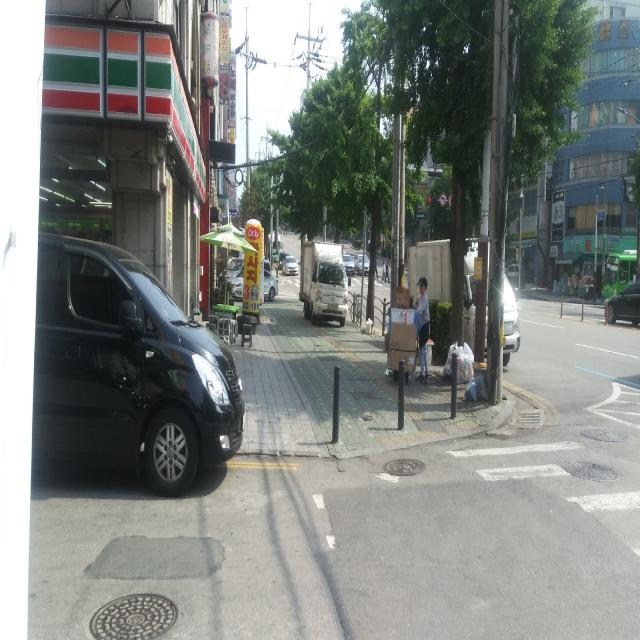횡단보도: (311, 439, 640, 558)
